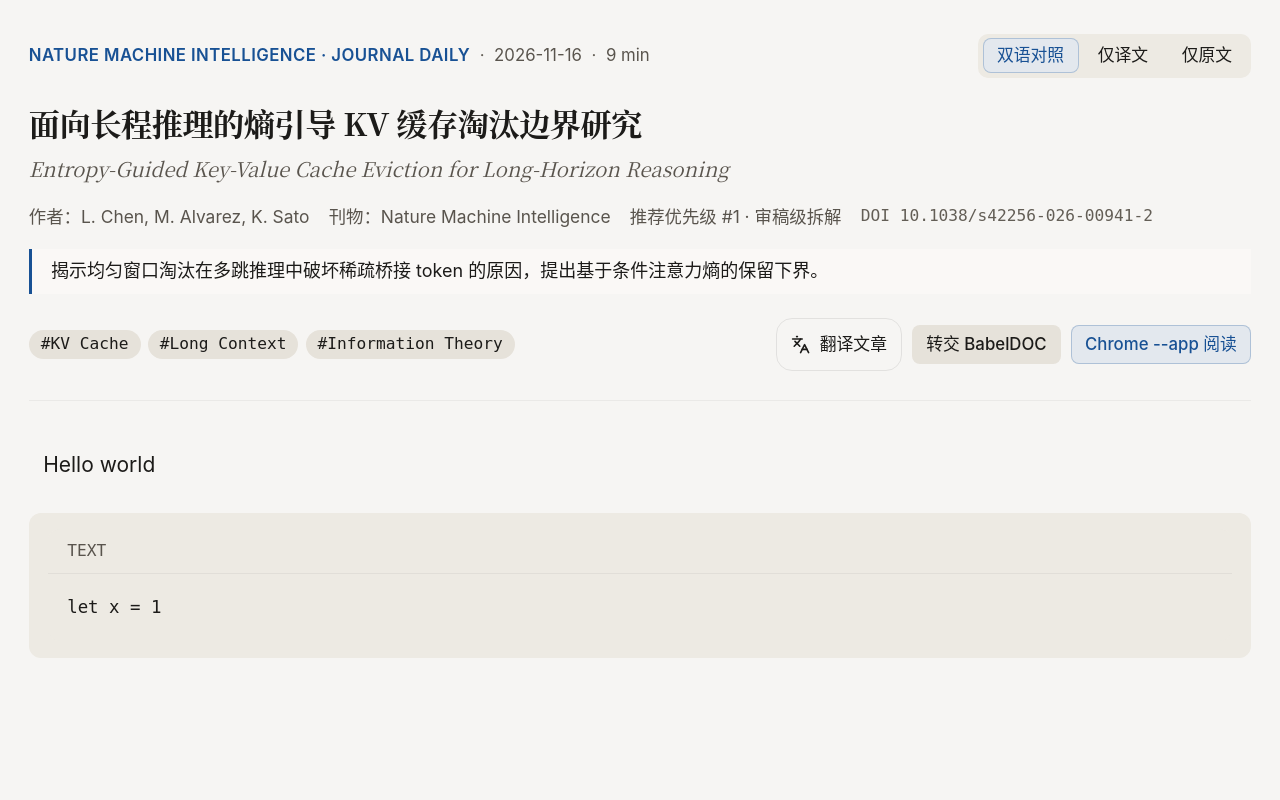
Test: article button preserves paragraph IDs and writes translations back into bilingual reading
Click the button "翻译文章" at {"x": 839, "y": 345}, box [776, 318, 902, 371]
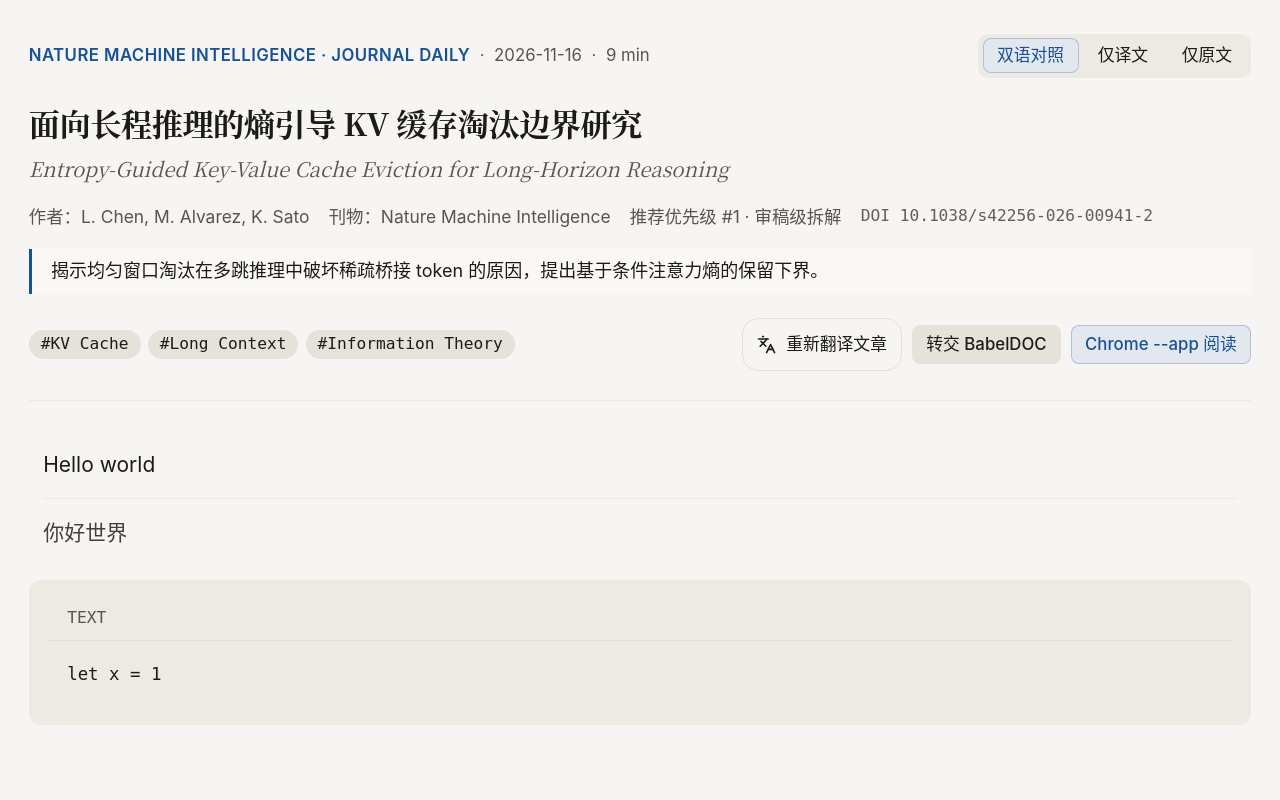
Expected: the text "你好世界" is shown, [43, 520, 127, 544]
